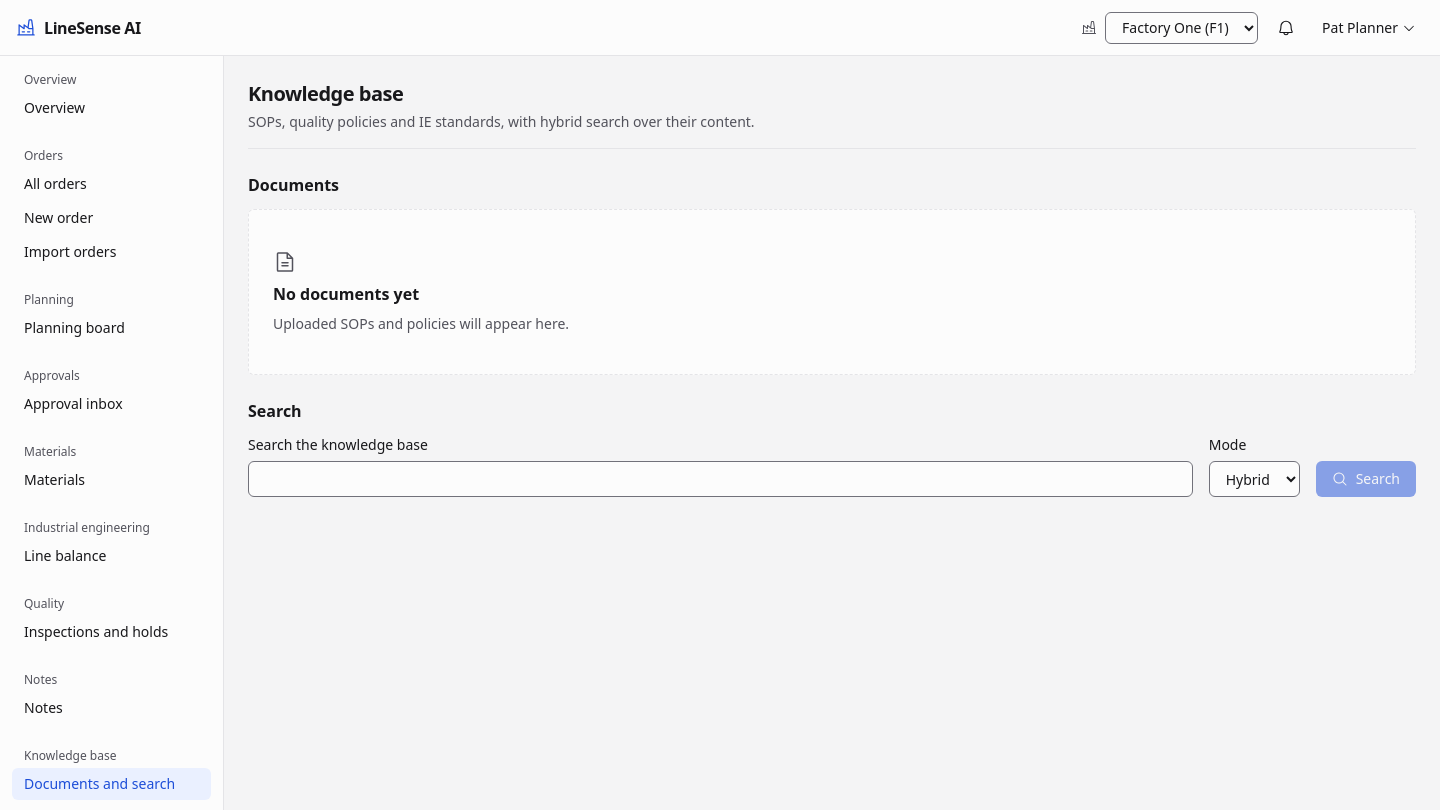
SearchPanel › renders excerpt text literally, never as markup
Type "tag 12A" into the field labelled "Search the knowledge base" at [720, 479], box [248,461,1193,497]
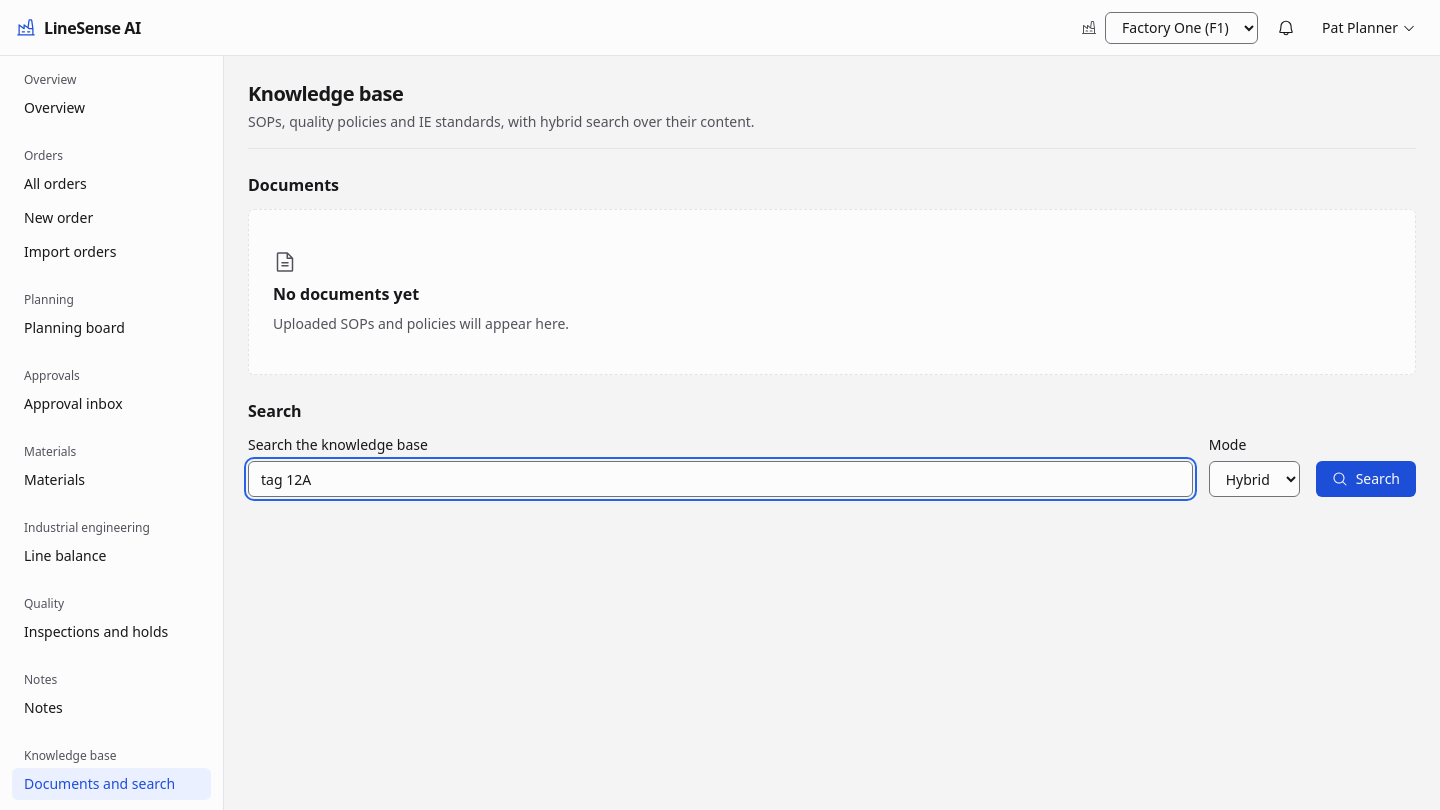
Click the button "Search" at [1366, 479], box [1316,461,1416,497]
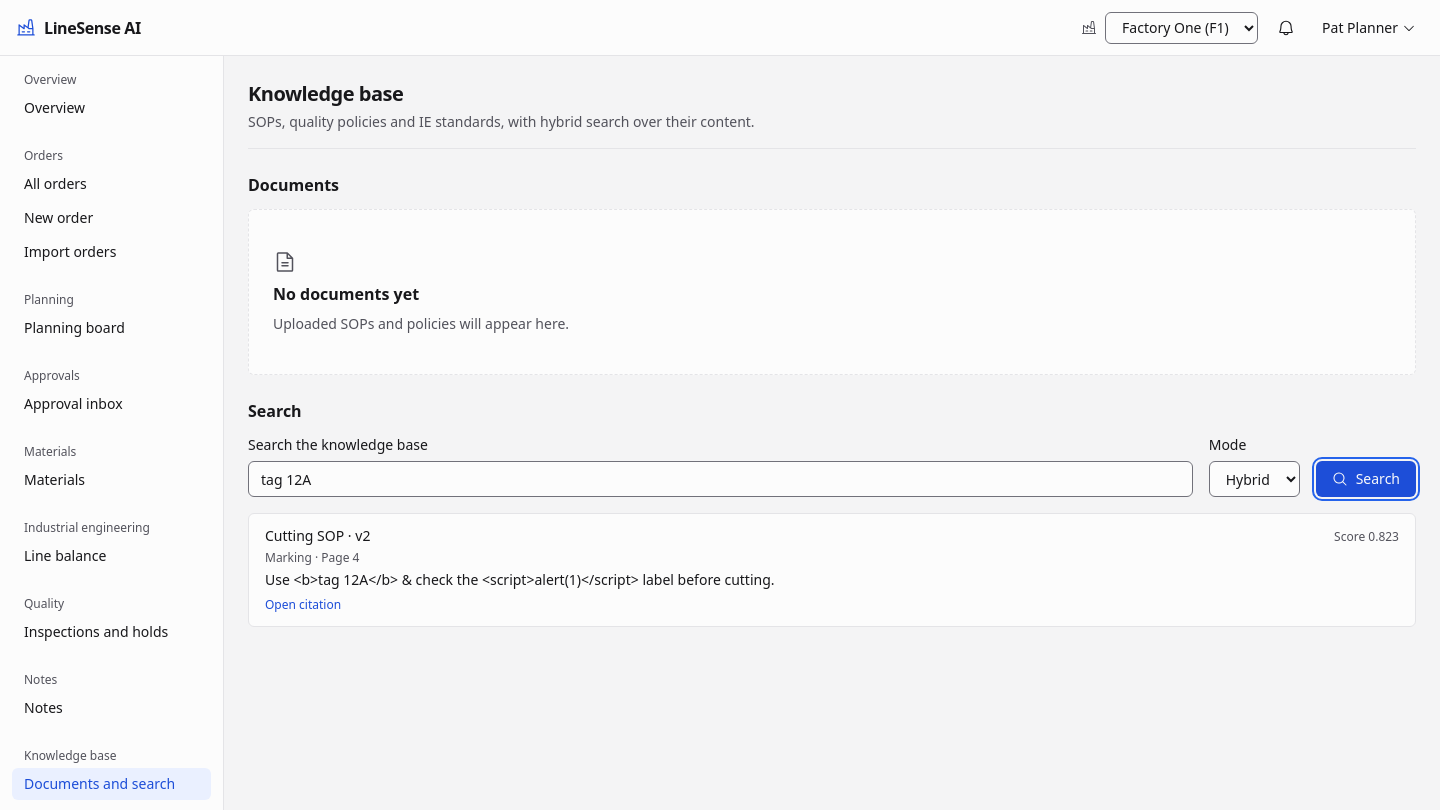
Check: the text "Use <b>tag 12A</b> & check the <script>alert(1)</script> label before cutting." is shown, box [265,570,774,589]
Check: the text "Cutting SOP · v2" is shown, box [265,526,370,546]
Check: the text "Score 0.823" is shown, box [1334,529,1399,545]
